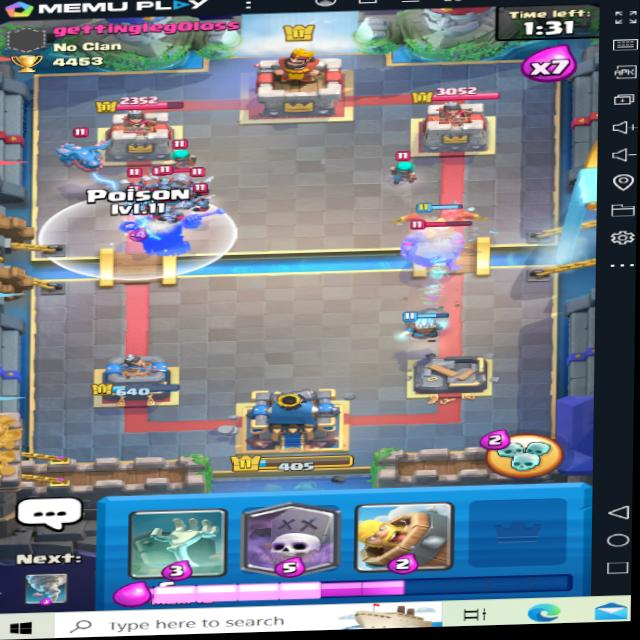bowler: (400, 214, 475, 269)
electro-dragon: (51, 123, 117, 177)
minion: (182, 187, 220, 215), (184, 165, 223, 191), (114, 176, 154, 197), (149, 164, 180, 190), (150, 201, 185, 224), (119, 191, 150, 214)
rascal-girl: (383, 148, 424, 183), (161, 138, 197, 169)
